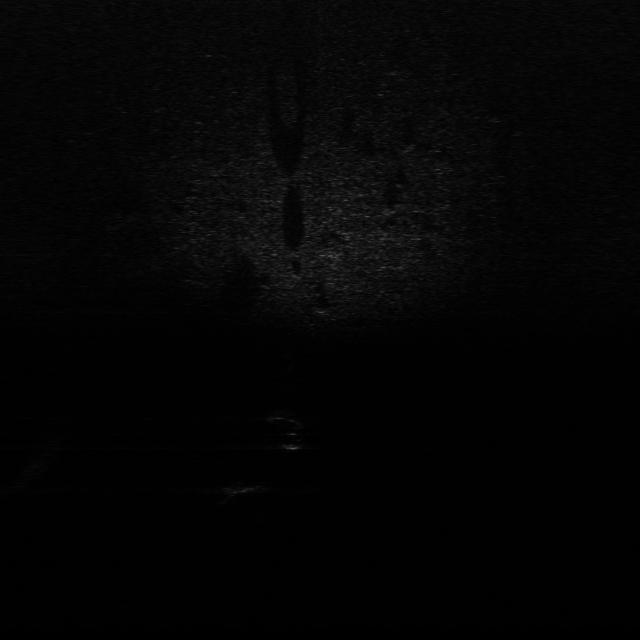ball: (281, 435, 307, 453)
square cage: (218, 479, 290, 499)
tyre: (267, 405, 309, 431)
